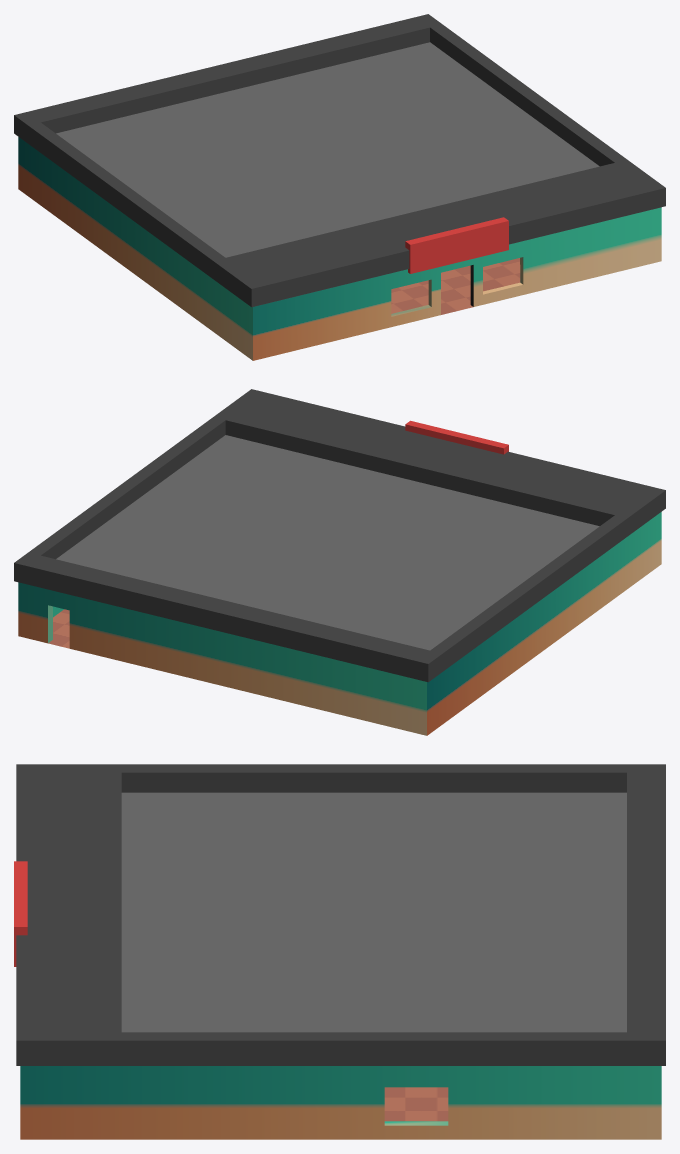
The model's file is pizzeria.glb.
3 views of the same model, one above another, from view 1: azimuth 30°, elevation 25°; view 2: azimuth 150°, elevation 25°; view 3: azimuth 270°, elevation 25° (orthographic). The views are drawn at different scales.
Parts seen in each view (by area): view 1: Ceiling, RoofBoarder, Walls, Billboard, Floor; view 2: Ceiling, RoofBoarder, Walls, Billboard, Floor; view 3: Ceiling, RoofBoarder, Walls, Floor, Billboard.
Boxes of the visible parts, <box> form: Ceiling: <box>56,42,599,257</box>; RoofBoarder: <box>14,14,665,307</box>; Walls: <box>18,137,661,360</box>; Billboard: <box>405,217,508,273</box>; Floor: <box>391,258,520,314</box>; Ceiling: <box>56,435,599,650</box>; RoofBoarder: <box>14,389,665,682</box>; Walls: <box>18,512,661,735</box>; Billboard: <box>405,420,508,454</box>; Floor: <box>48,609,69,648</box>; Ceiling: <box>121,792,626,1032</box>; RoofBoarder: <box>16,764,665,1065</box>; Walls: <box>20,1066,661,1139</box>; Floor: <box>384,1087,448,1121</box>; Billboard: <box>14,861,27,966</box>.
Size of the model in its own units: 30.81 by 5.68 by 30.7.
6 materials, 2 textured.
